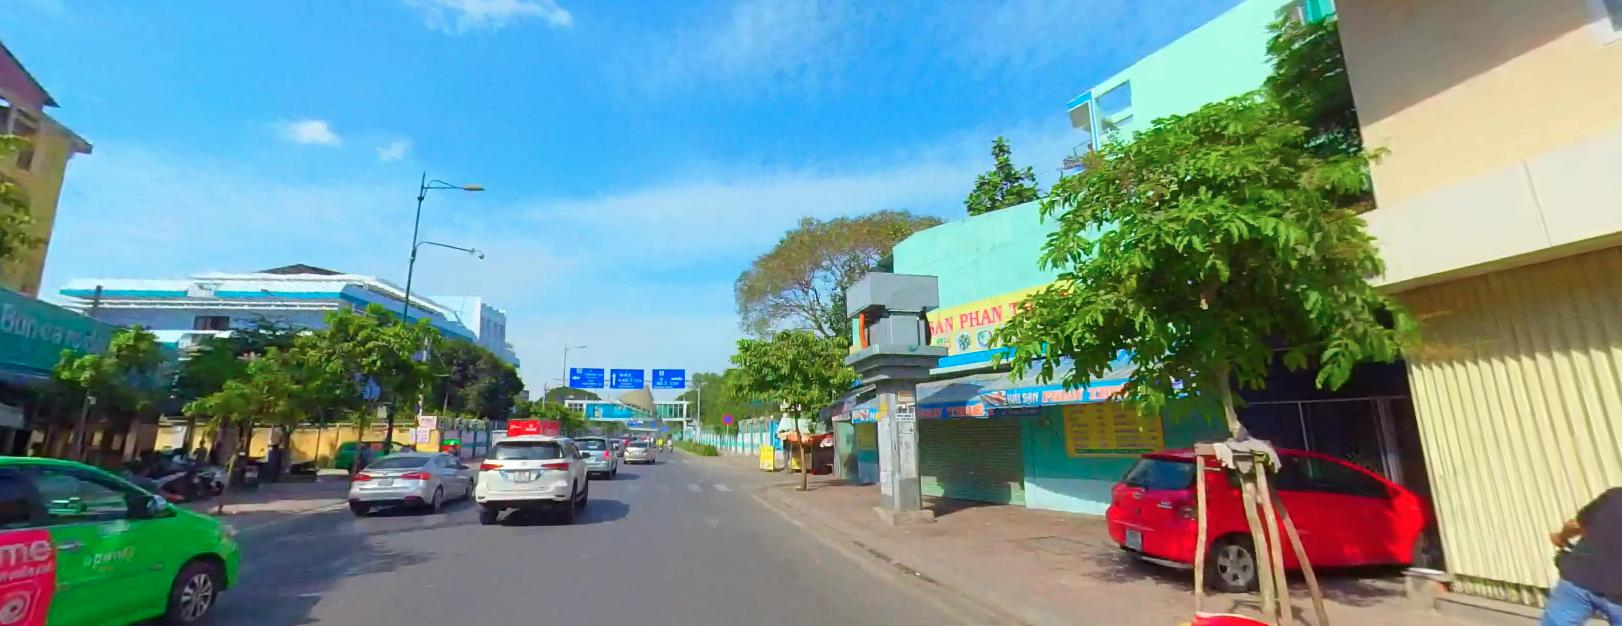Cam dung va do: (722, 412, 733, 423)
